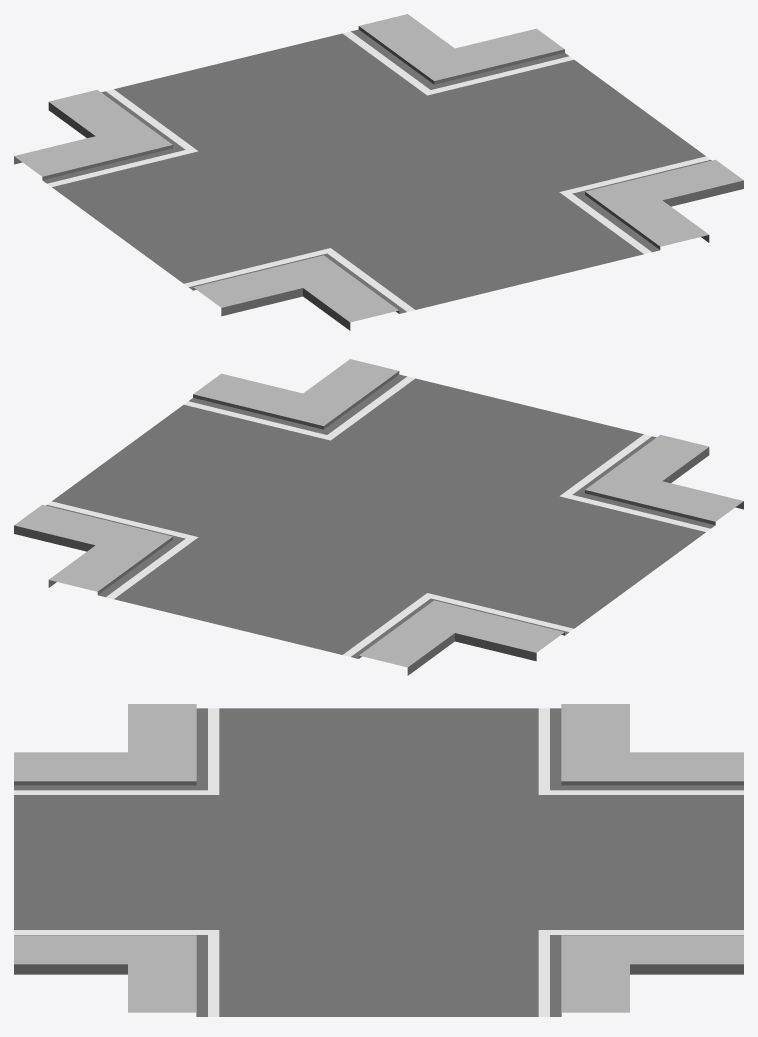
File: Road3.fbx
The picture shows the model from 3 angles, top to bottom: view 1: azimuth 30°, elevation 25°; view 2: azimuth 150°, elevation 25°; view 3: azimuth 270°, elevation 25°; orthographic projection. The views are drawn at different scales.
Visible parts, largest first — view 1: 4Road; view 2: 4Road; view 3: 4Road.
Part boxes in pixels (<box>): 4Road: <box>14,14,743,330</box>; 4Road: <box>14,359,743,675</box>; 4Road: <box>14,704,743,1016</box>.
Size of the model in its own units: 5495 by 85.27 by 5495.
